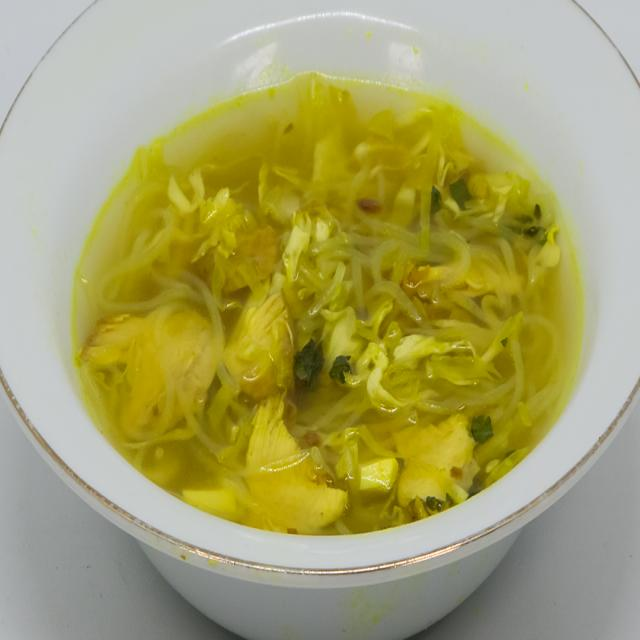Soto-Lamongan: (50, 37, 598, 550)
